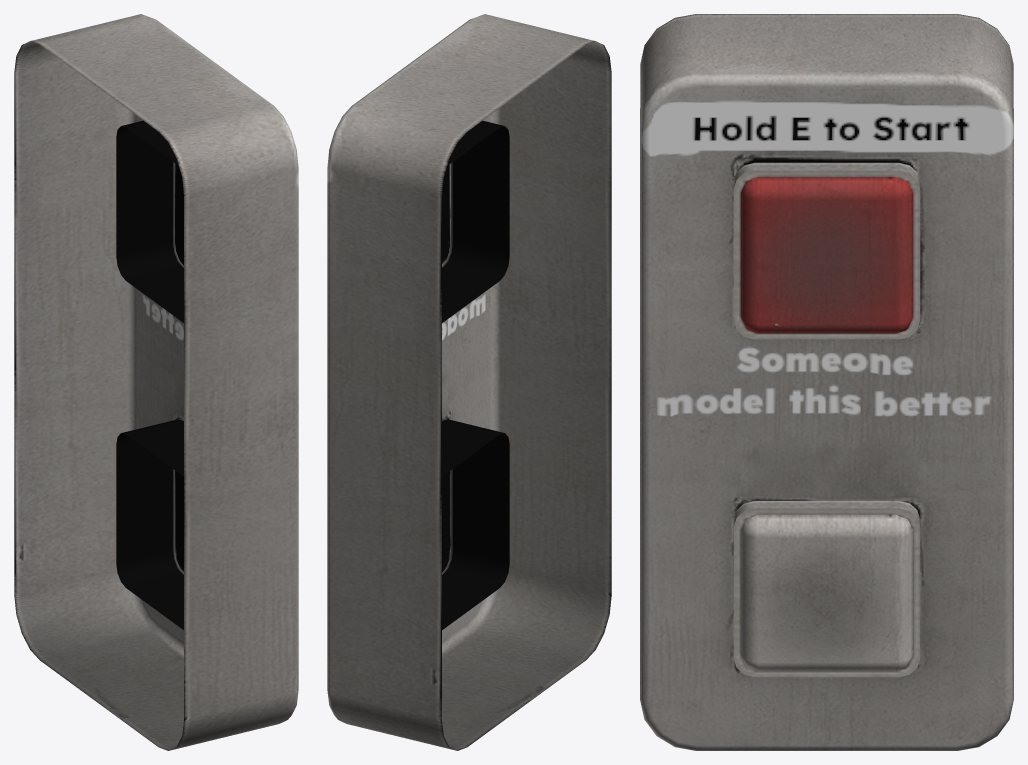
File: buttonthing.fbx
3 views of the same model, side by side, from view 1: azimuth 30°, elevation 25°; view 2: azimuth 150°, elevation 25°; view 3: azimuth 270°, elevation 25° (orthographic). The views are drawn at different scales.
Visible parts, largest first — view 1: Cube.001; view 2: Cube.001; view 3: Cube.001.
Part boxes in pixels (bbox=[...]): Cube.001: bbox=[14, 14, 298, 750]; Cube.001: bbox=[327, 14, 611, 750]; Cube.001: bbox=[640, 14, 1013, 750].
Size of the model in its own units: 4.79 by 19.25 by 9.62.
1 material, 1 textured.
